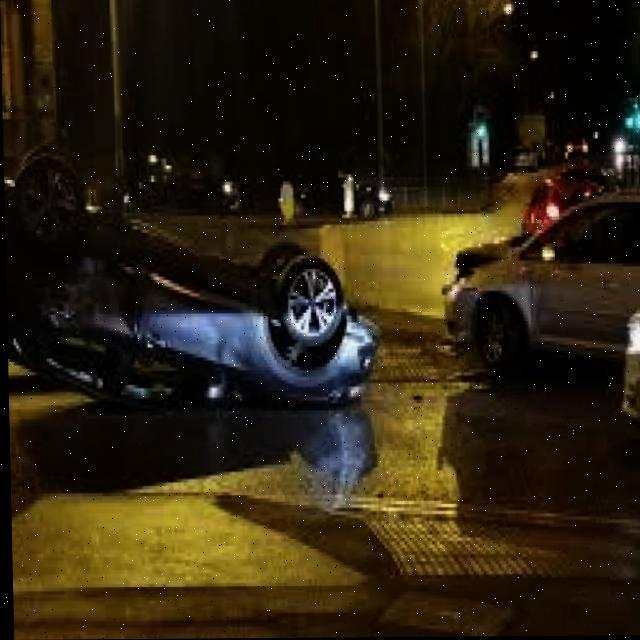normal: (487, 180, 640, 427)
single accident: (37, 104, 384, 426)
